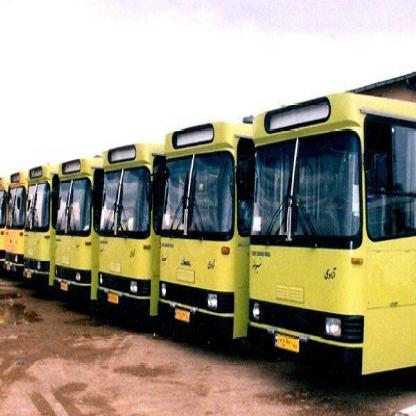Bus: (244, 91, 416, 376), (156, 122, 252, 336), (93, 140, 160, 320), (54, 153, 101, 305), (17, 163, 54, 296), (0, 174, 31, 288)
